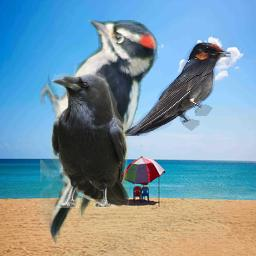Crow: (50, 73, 129, 208)
Swallow: (123, 42, 231, 136)
Woodpecker: (40, 13, 160, 244)
